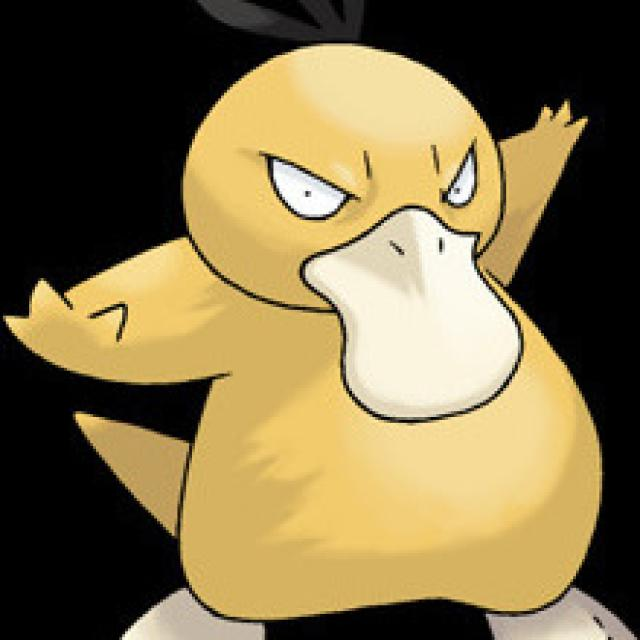Psyduck: (161, 44, 601, 640)
